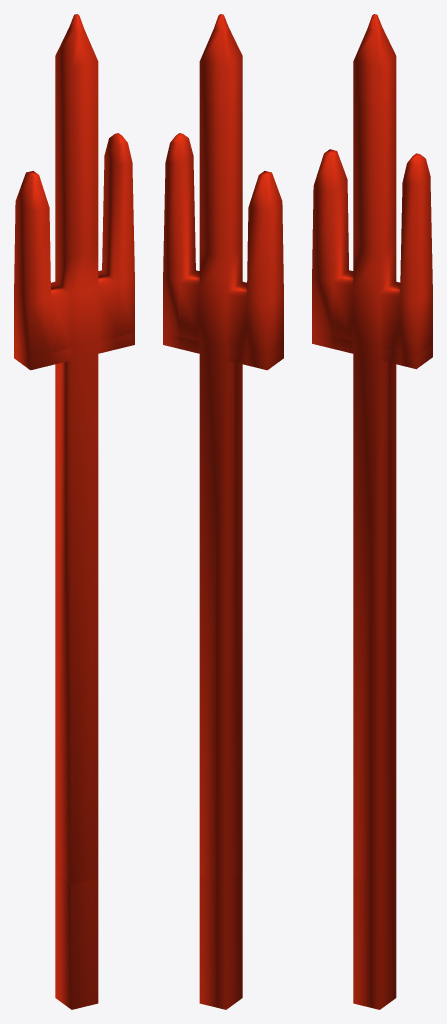
The model's file is spada.fbx.
3 renders of one model, left to right at view 1: azimuth 30°, elevation 25°; view 2: azimuth 150°, elevation 25°; view 3: azimuth 330°, elevation 25°, orthographic.
Visible parts, largest first — view 1: Plane.023; view 2: Plane.023; view 3: Plane.023.
Part boxes in pixels (x1,y1,x2,y2): Plane.023: [14, 14, 134, 1009]; Plane.023: [163, 14, 283, 1009]; Plane.023: [312, 14, 432, 1009].
Bounding box in the file's own units: 11.77 × 106 × 3.22.
